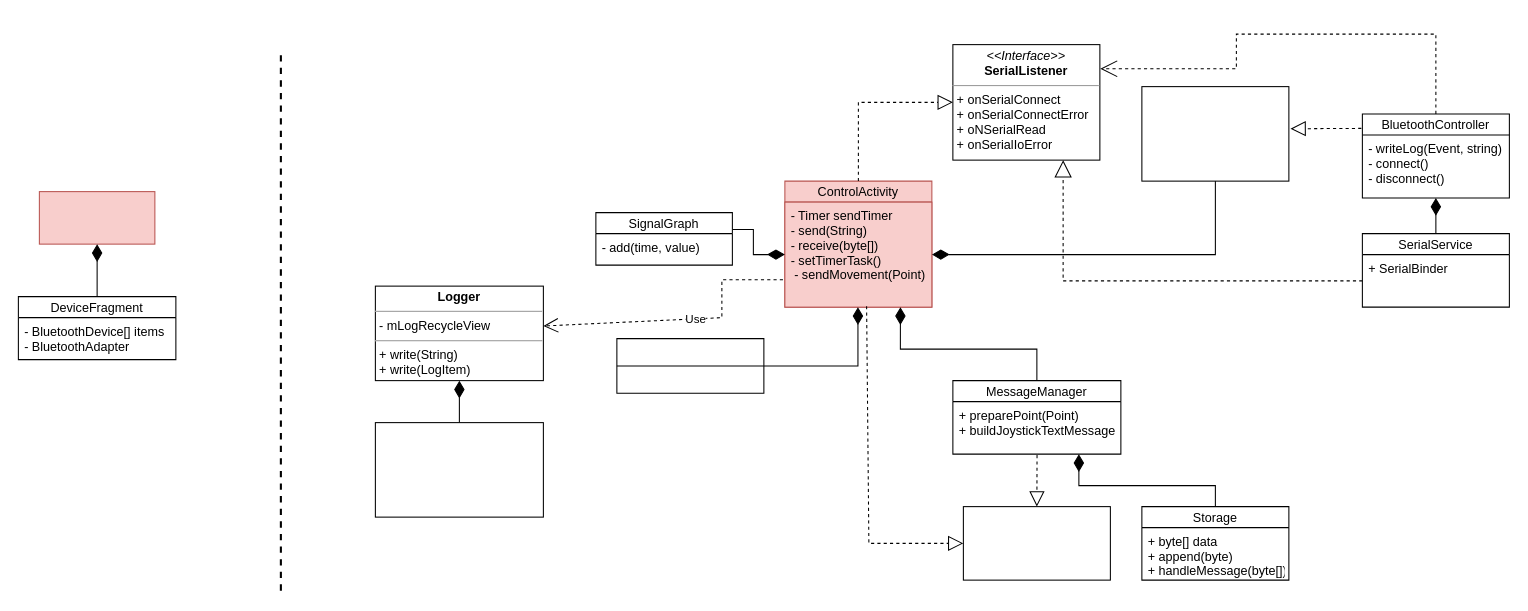
Some shapes in this 1528 by 611 pixel diagram are drawn without their labels. Here are the shapes that lost their labels. From the top down, the centre of each, then its label:
At pixel 1215 133: "<<Interface>> Communicator + send(byte[]) + send(string)".
At pixel 96 217: "MainActivity".
At pixel 690 365: "Config".
At pixel 458 469: "LogStorage - LogItem[] mLog + add(LogItem) + getLog()".
At pixel 1036 543: "<<Interface>> Listener + onReceive(Message)".
